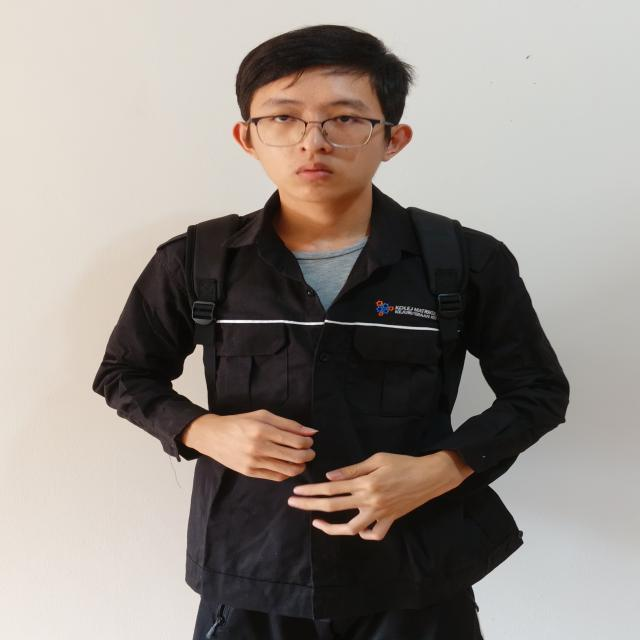person_with_labcoat: (94, 25, 568, 640)
